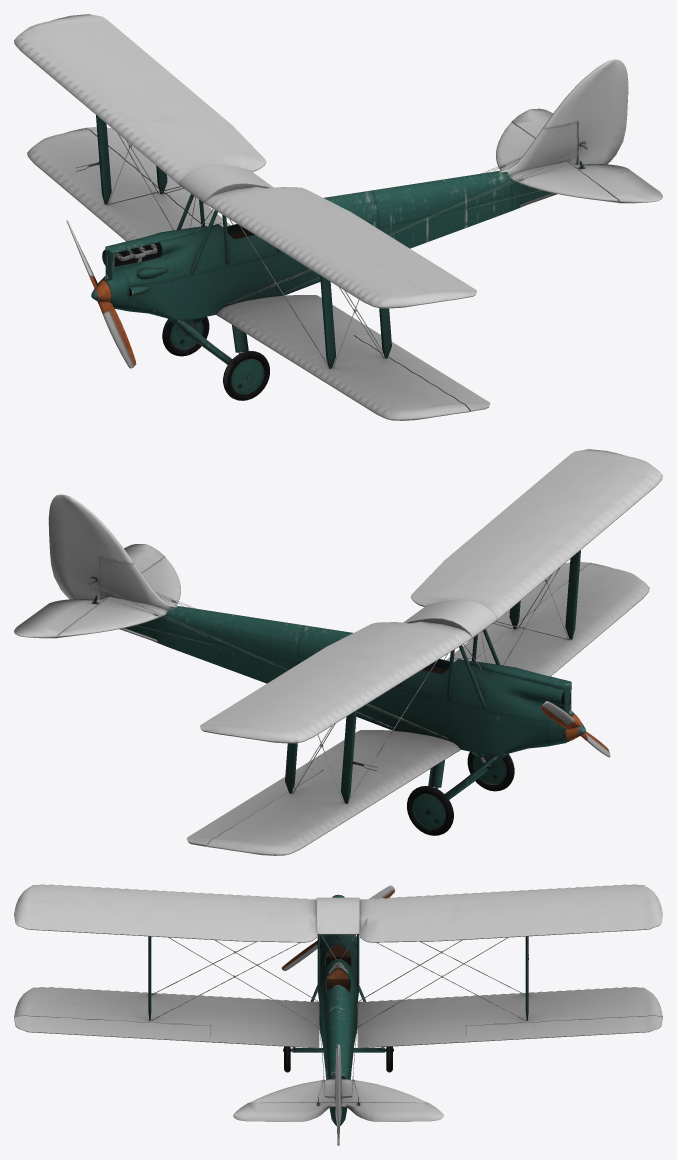
The model's file is airplane-white.glb.
3 views of the same model, one above another, from view 1: azimuth 30°, elevation 25°; view 2: azimuth 150°, elevation 25°; view 3: azimuth 270°, elevation 25° (orthographic). The views are drawn at different scales.
Parts seen in each view (by area): view 1: Gypsy_moth, Gouvernaille.001, Hélice.001; view 2: Gypsy_moth, Gouvernaille.001, Hélice.001; view 3: Gypsy_moth, Hélice.001, Gouvernaille.001.
Boxes of the visible parts, x1,y1,x2,y2 form: Gypsy_moth: (14,14,662,420); Gouvernaille.001: (543,59,628,164); Hélice.001: (66,220,136,368); Gypsy_moth: (14,449,662,855); Gouvernaille.001: (48,494,133,599); Hélice.001: (541,701,610,757); Gypsy_moth: (14,884,662,1145); Hélice.001: (281,885,395,970); Gouvernaille.001: (335,1044,341,1132).
Bounding box in the file's own units: 0.7274 × 0.2866 × 0.9064.
Materials: 1 (1 with a texture image).
